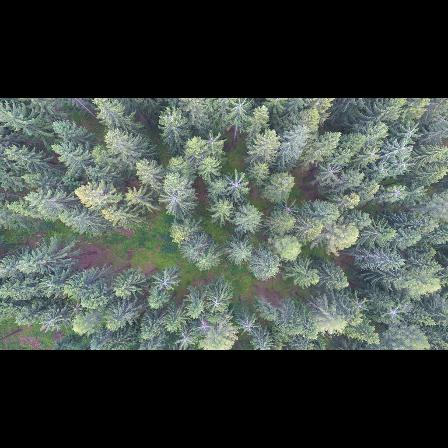Sick: (157, 182, 195, 214), (315, 158, 346, 185), (221, 172, 252, 199), (234, 311, 262, 338), (172, 326, 197, 346), (194, 313, 215, 336)
